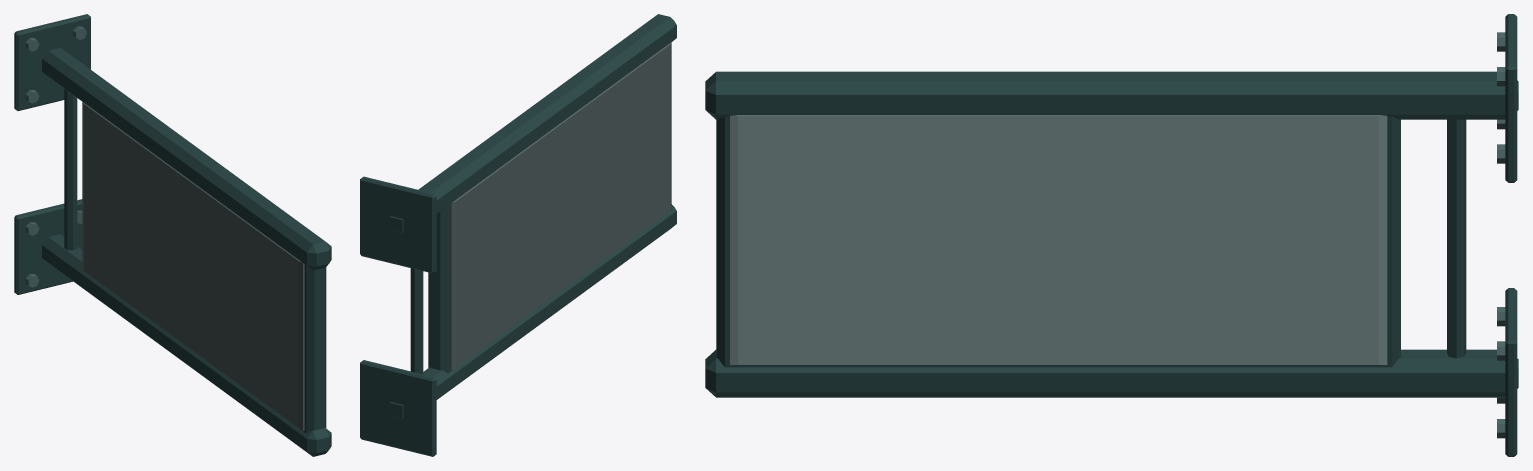
File: signboard small horizontal.fbx
The picture shows the model from 3 angles, left to right: view 1: azimuth 30°, elevation 25°; view 2: azimuth 150°, elevation 25°; view 3: azimuth 270°, elevation 25°; orthographic projection. The views are drawn at different scales.
Parts seen in each view (by area): view 1: polySurface33; view 2: polySurface33; view 3: polySurface33.
Boxes of the visible parts, x1=… form: polySurface33: x1=14, y1=14, x2=331, y2=456; polySurface33: x1=360, y1=14, x2=676, y2=456; polySurface33: x1=705, y1=14, x2=1518, y2=456.
Bounding box in the file's own units: 0.1493 × 0.4994 × 0.9416.
